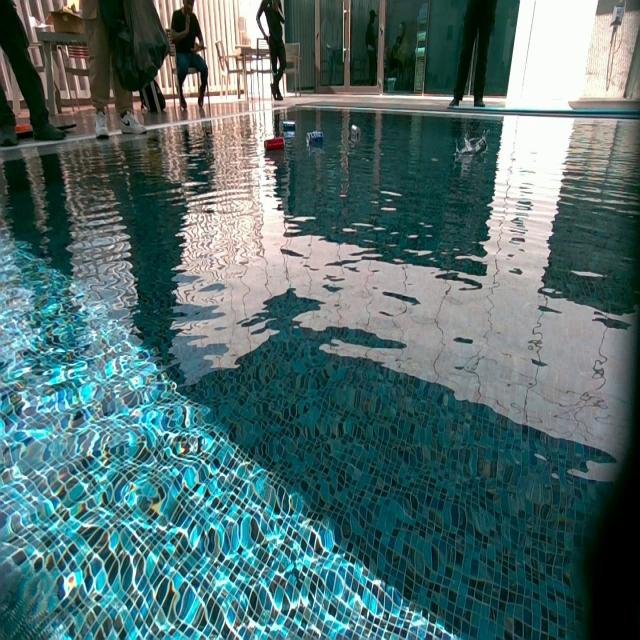Cans: (470, 138, 487, 158), (265, 136, 285, 152), (308, 132, 324, 146), (282, 120, 298, 134), (351, 124, 361, 140)
